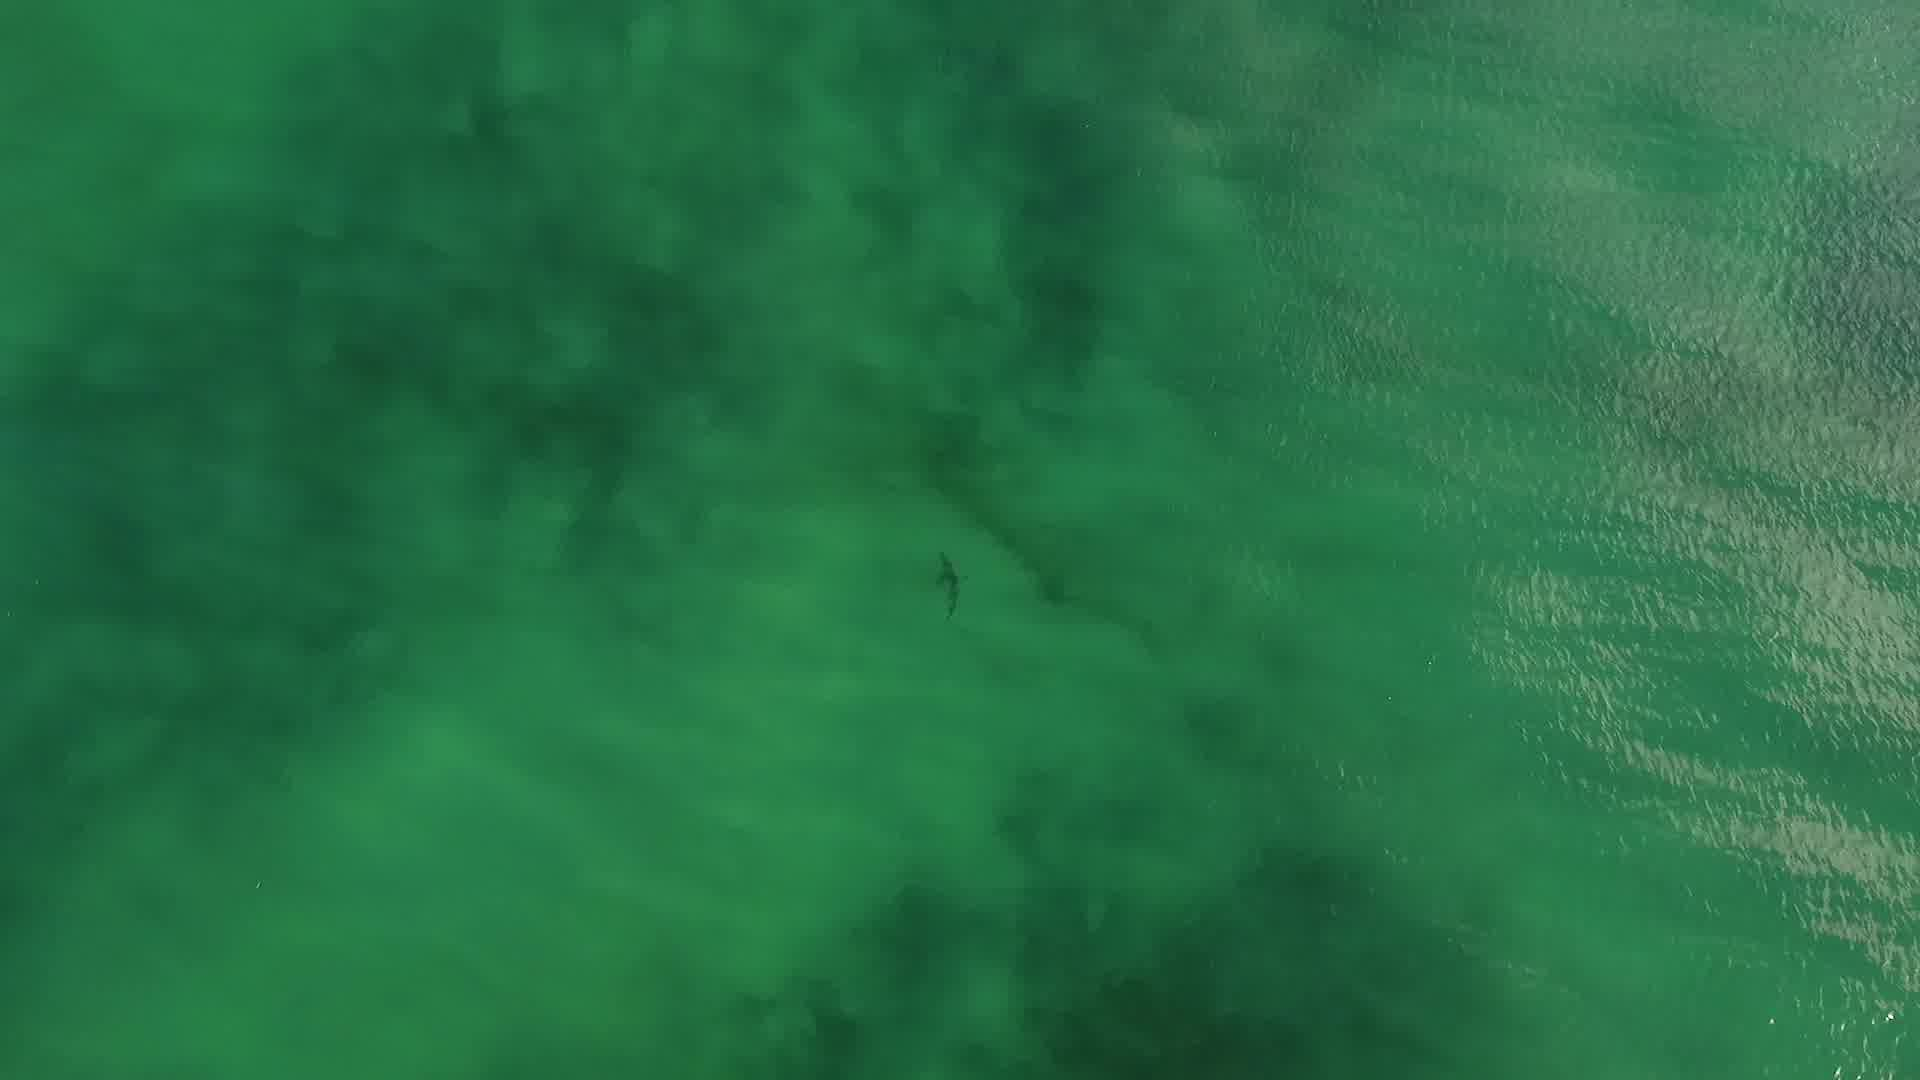shark: (930, 549, 967, 626)
